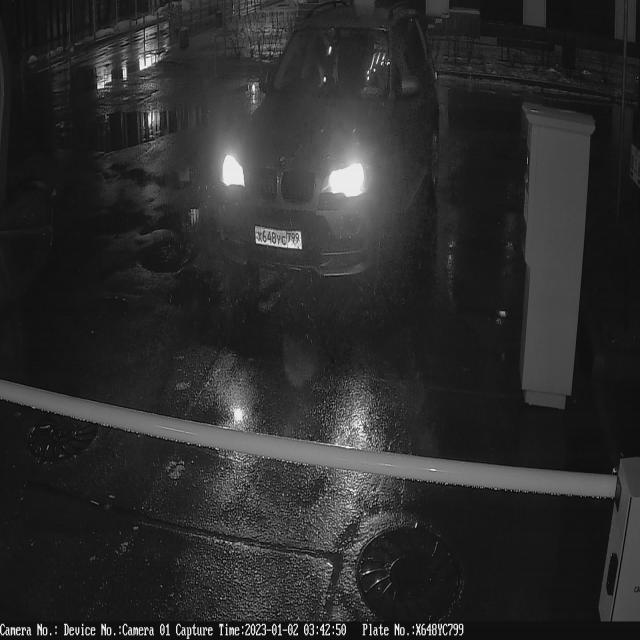car-plate-numbers: (253, 223, 305, 255)
